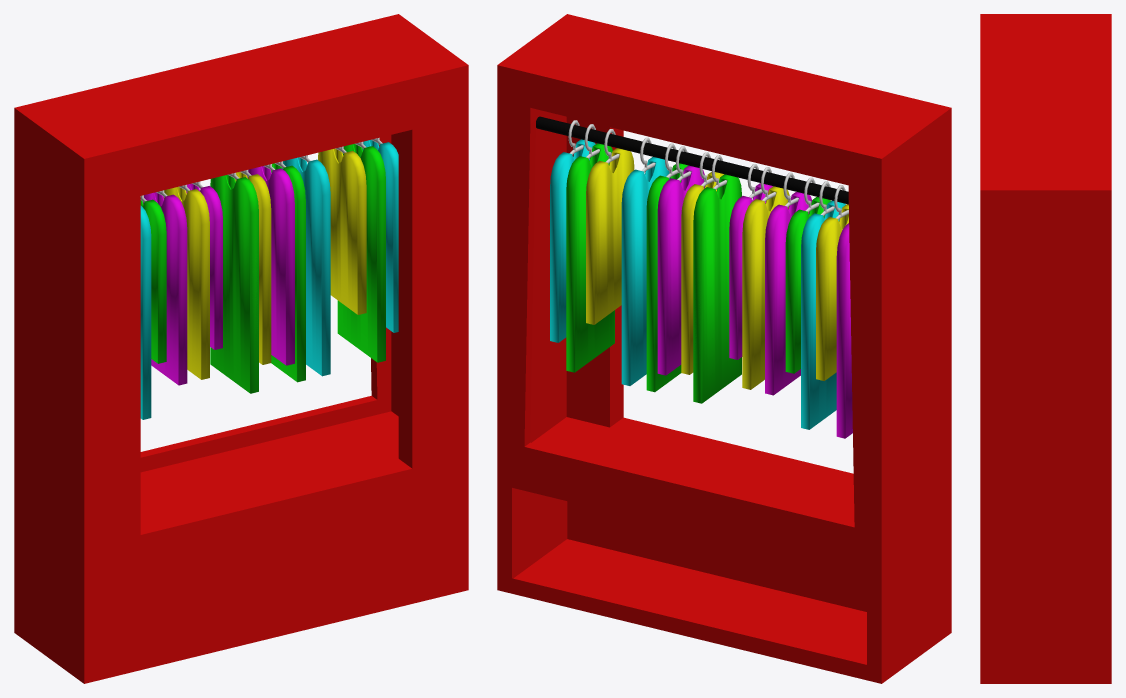
The model's file is ArmarioCuerpo.fbx.
3 views of the same model, side by side, from view 1: azimuth 30°, elevation 25°; view 2: azimuth 150°, elevation 25°; view 3: azimuth 270°, elevation 25° (orthographic). The views are drawn at different scales.
Parts seen in each view (by area): view 1: armarioDeLosPlatos.002; view 2: armarioDeLosPlatos.002; view 3: armarioDeLosPlatos.002.
Boxes of the visible parts, x1=… form: armarioDeLosPlatos.002: x1=14, y1=14, x2=468, y2=683; armarioDeLosPlatos.002: x1=497, y1=14, x2=951, y2=683; armarioDeLosPlatos.002: x1=980, y1=14, x2=1111, y2=683.
Size of the model in its own units: 1208 by 1576 by 380.
